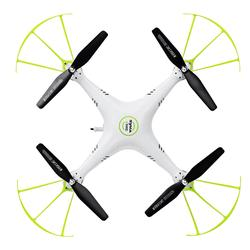drone: (15, 11, 244, 238)
